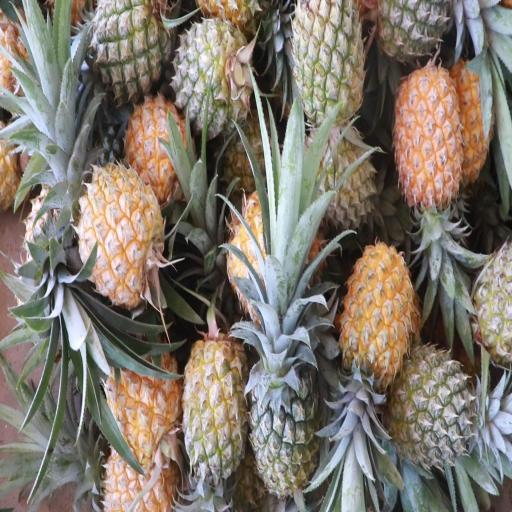------------------------------: (184, 330, 248, 502)
Pineapple - v8 v1: (340, 235, 412, 463), (400, 68, 467, 297), (74, 167, 172, 301), (103, 342, 185, 475), (128, 103, 204, 216)
